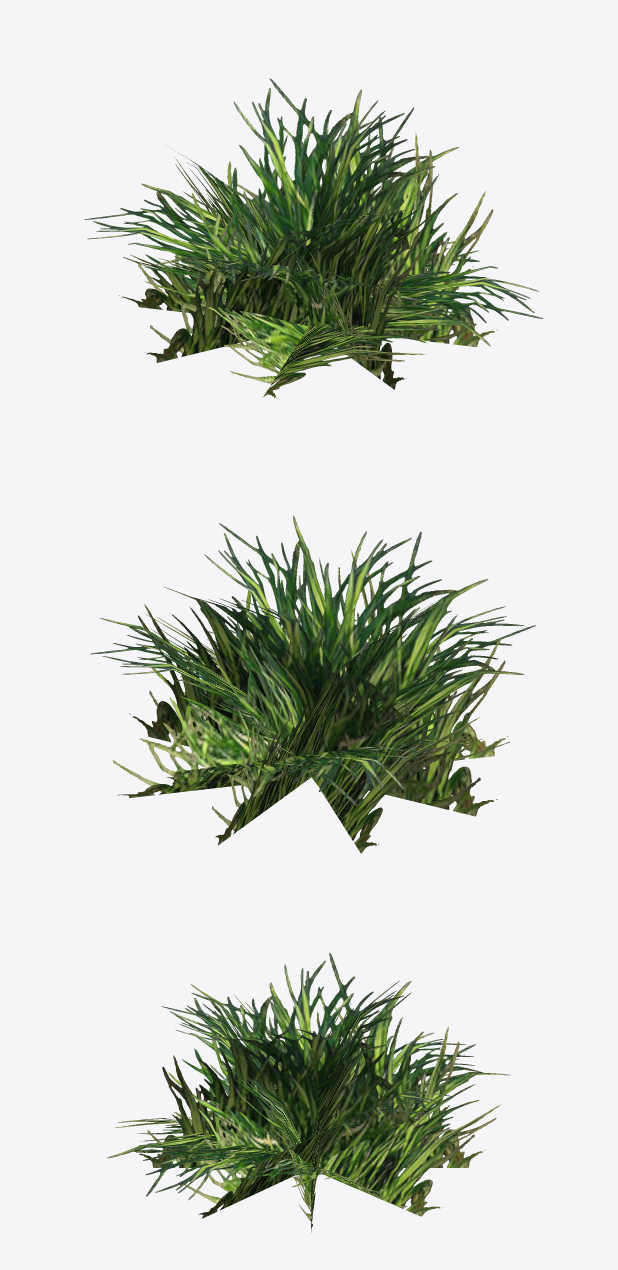
File: Model_Grass_03.fbx
3 renders of one model, top to bottom at view 1: azimuth 30°, elevation 25°; view 2: azimuth 150°, elevation 25°; view 3: azimuth 270°, elevation 25°, orthographic. The views are drawn at different scales.
Parts seen in each view (by area): view 1: graspol; view 2: graspol; view 3: graspol.
Part boxes in pixels (x1=…): graspol: x1=84, y1=78, x2=542, y2=398; graspol: x1=90, y1=515, x2=535, y2=853; graspol: x1=107, y1=952, x2=510, y2=1232.
Size of the model in its own units: 183 by 66.59 by 183.
